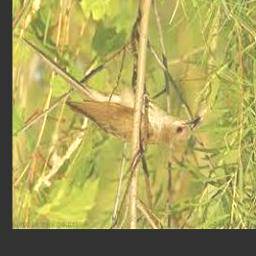Cuckoo: (21, 38, 200, 144)
